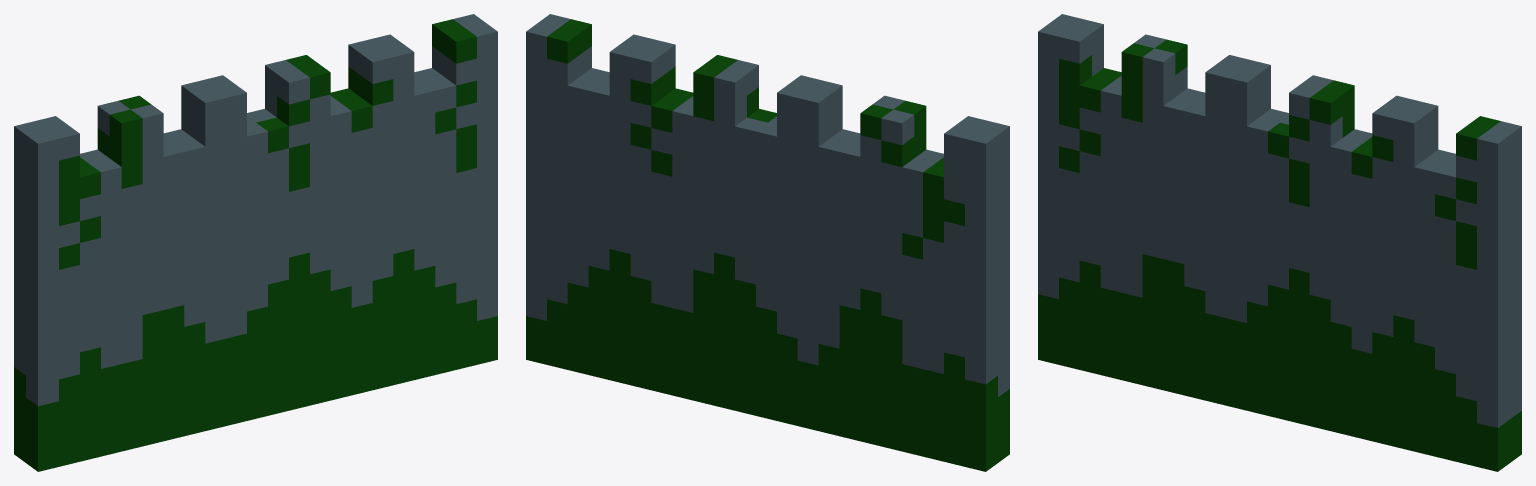
Rendered from Wall2_End.obj.
3 views of the same model, side by side, from view 1: azimuth 30°, elevation 25°; view 2: azimuth 150°, elevation 25°; view 3: azimuth 330°, elevation 25° (orthographic).
Bounding box in the file's own units: 2.2 × 1.5 × 0.2.
Materials: 1 (1 with a texture image).
